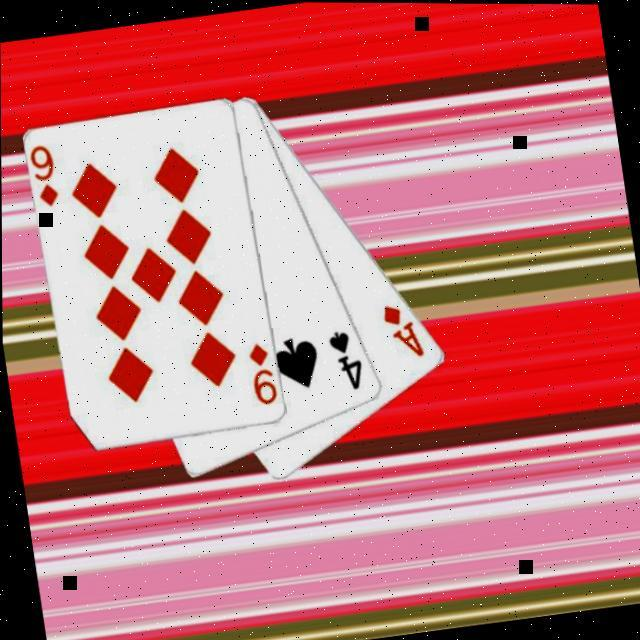4S: (326, 323, 371, 393)
9D: (246, 337, 281, 407), (30, 138, 65, 208)
AD: (379, 295, 429, 362)
